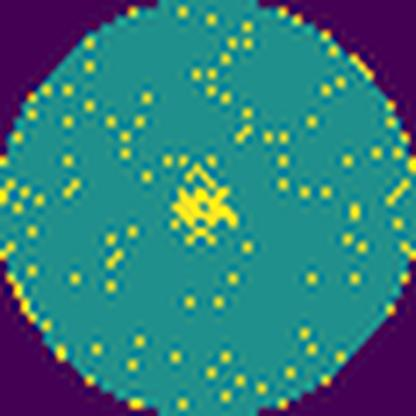Center: (170, 182, 236, 232)
